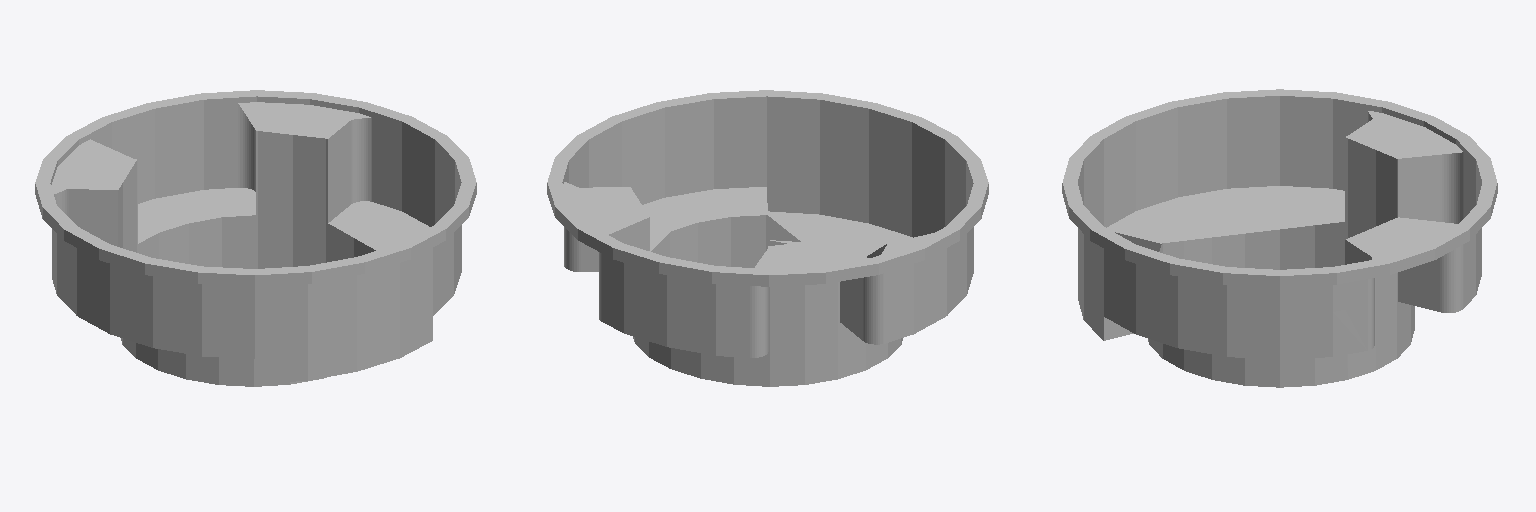
File: Adara.obj
3 views of the same model, side by side, from view 1: azimuth 30°, elevation 25°; view 2: azimuth 150°, elevation 25°; view 3: azimuth 270°, elevation 25° (orthographic).
Parts seen in each view (by area): view 1: Mesh1 Group1 Model; view 2: Mesh1 Group1 Model; view 3: Mesh1 Group1 Model.
Part boxes in pixels (x1,y1,x2,y2): Mesh1 Group1 Model: (35,90,476,386); Mesh1 Group1 Model: (547,90,988,386); Mesh1 Group1 Model: (1062,89,1497,387).
Bounding box in the file's own units: 178 × 65 × 175.